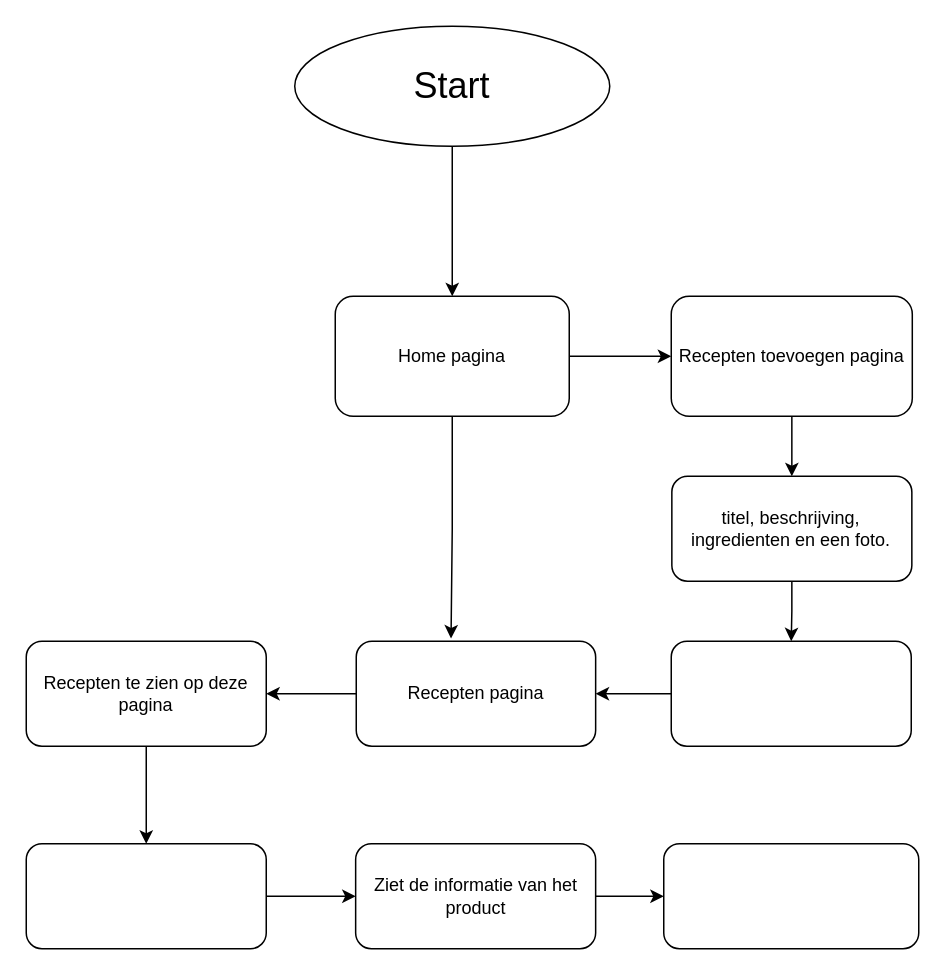
This 945x975 diagram has some shape labels left out. The centre of each missing label's shape, as x and y in pixels:
"Kan het recept aanpassen of verwijderen" belongs at point 790,895.
"Klikt op recept" belongs at point 145,895.
"Word verstuurd naar de database" belongs at point 790,693.
